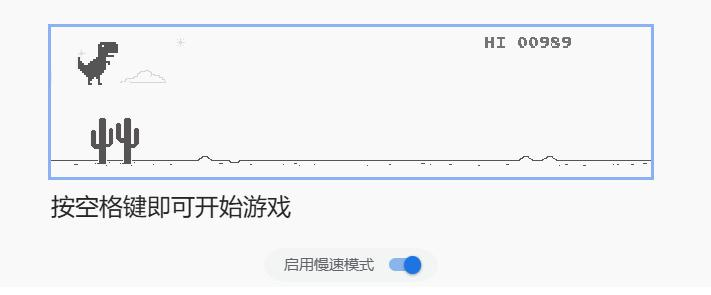cactus: (90, 116, 140, 166)
dino: (74, 40, 119, 88)
